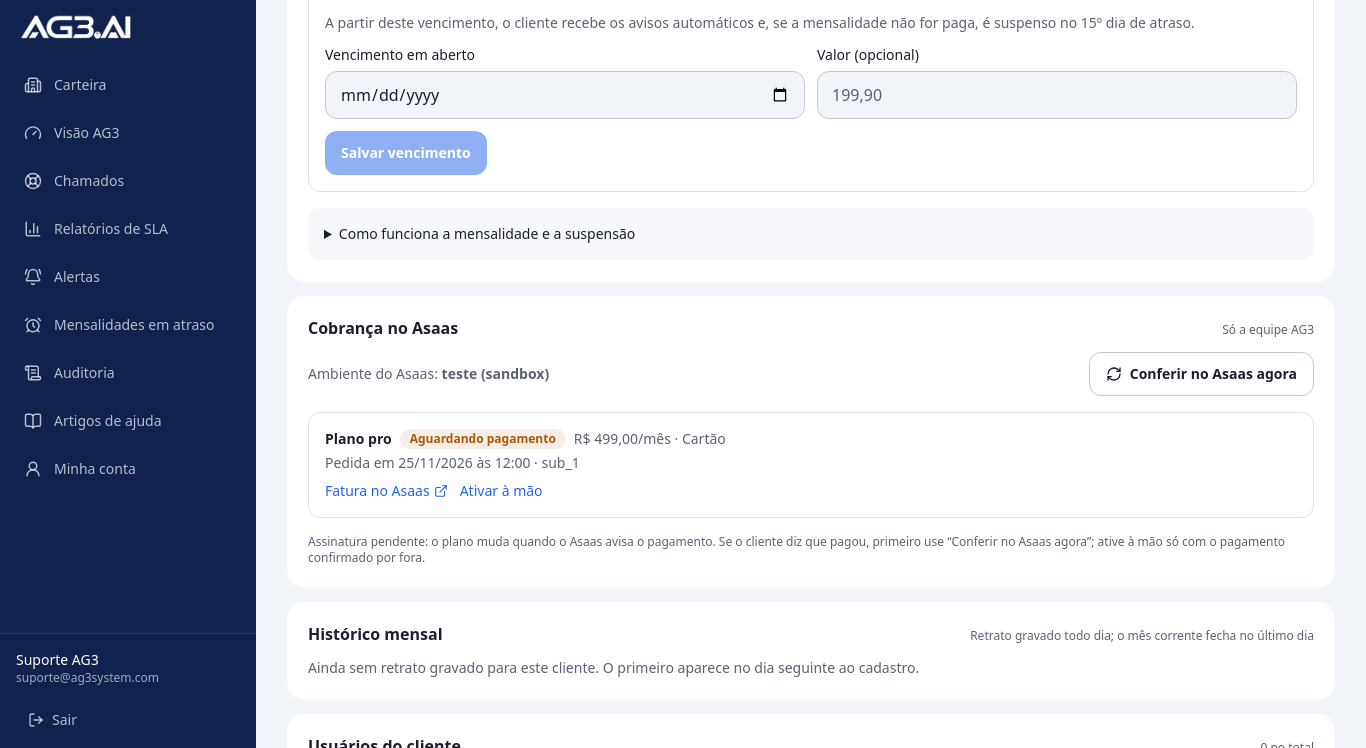
it: cobrança no Asaas (adendo kn) › equipe AG3 confere no Asaas e ativa à mão com motivo
The width and height of the screenshot is (1366, 748).
(page scrolled)
Expected: the text "Aguardando pagamento" is shown, [400,429,566,449]
Click the button "Conferir no Asaas agora" at (1201,374), box [1089,352,1314,396]
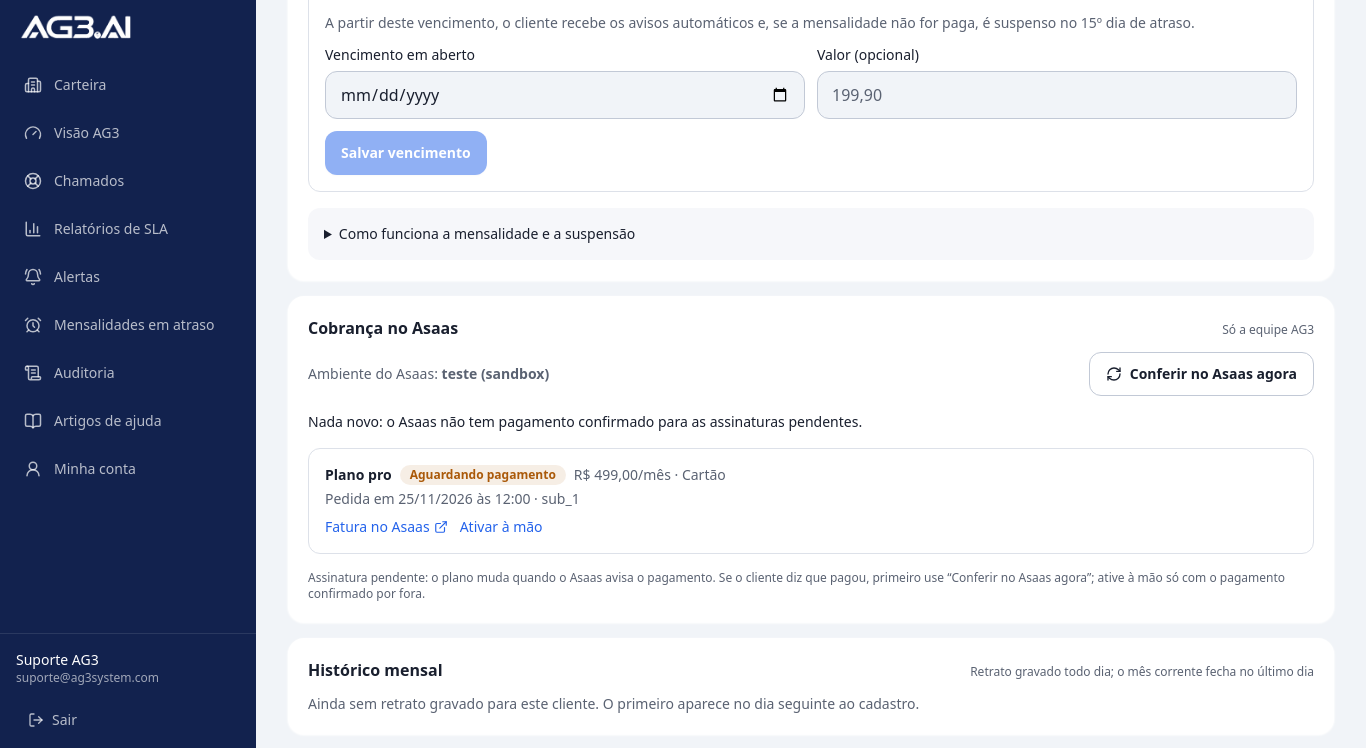
Expected: the text "Nada novo: o Asaas não tem pagamento confirmado para as assinaturas pendentes." is shown, [308,412,862,431]
Click the button "Ativar à mão" at (501,527), box [460,517,543,537]
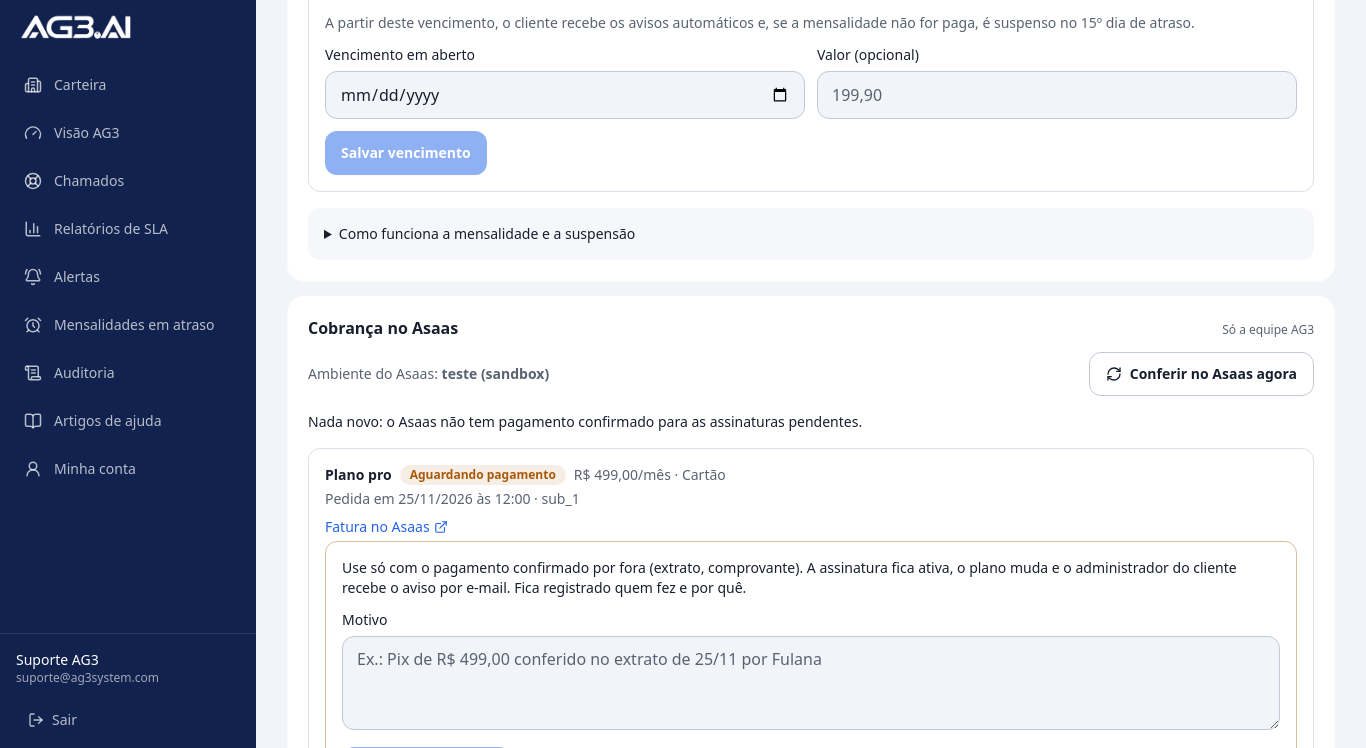
Type "Pix conferido no extrato de 25/11" into the text box labelled "Motivo" at (811,683), box [342,636,1280,730]
(page scrolled)
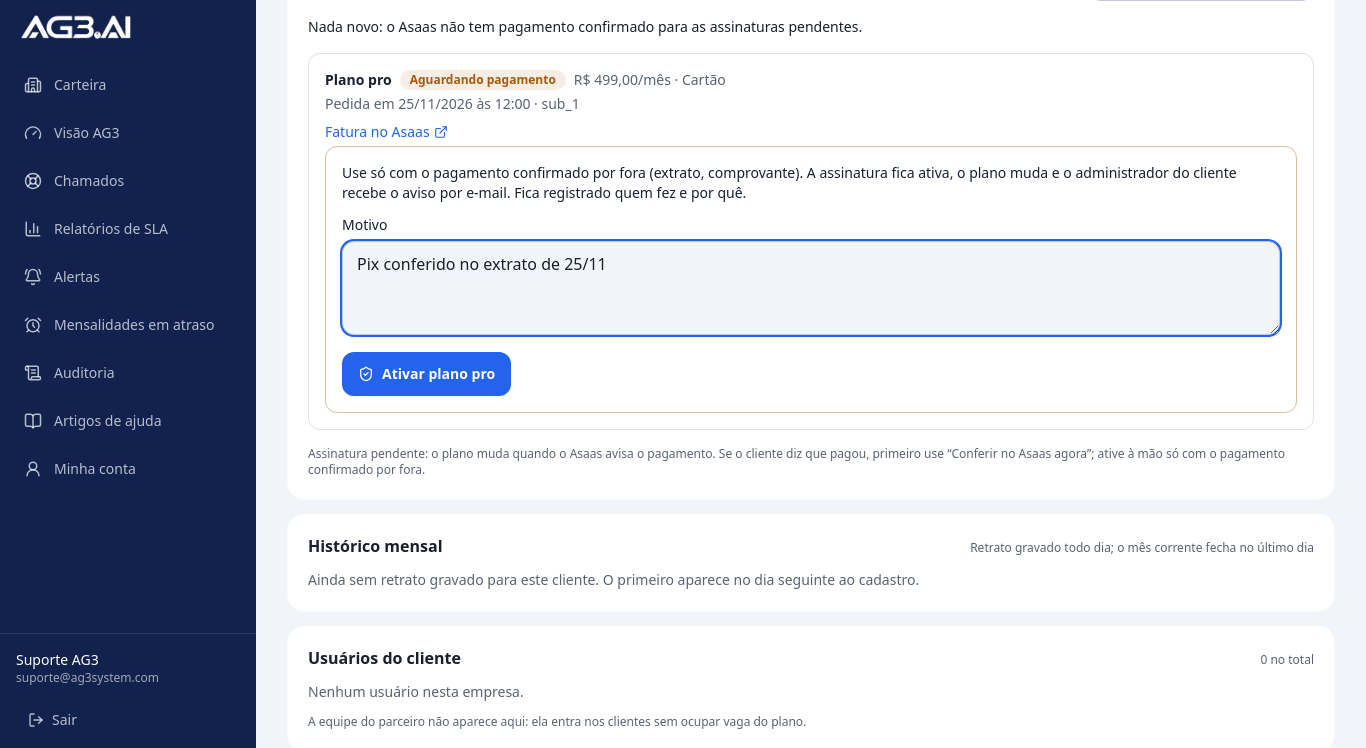
Click the button "Ativar plano pro" at (427,374), box [342,352,511,396]
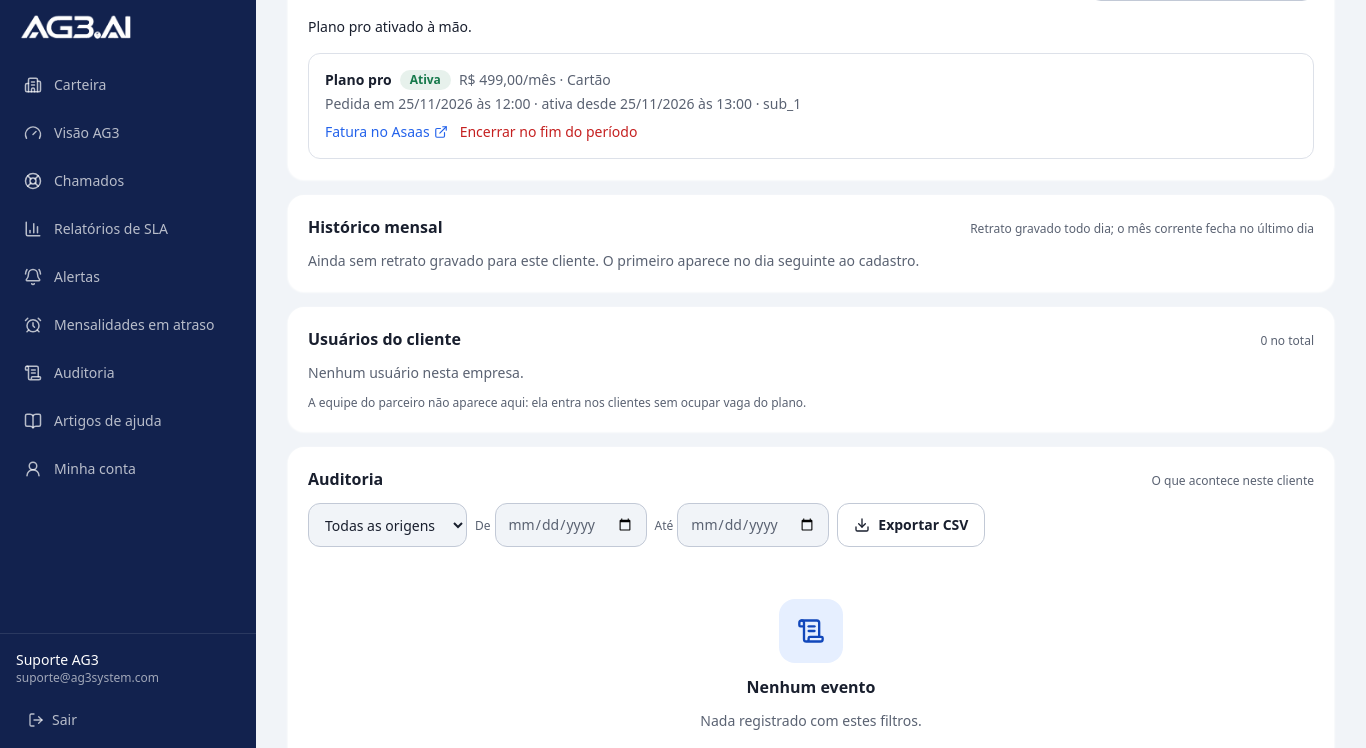
Expected: the text "Ativa" is shown, [400,70,451,90]
